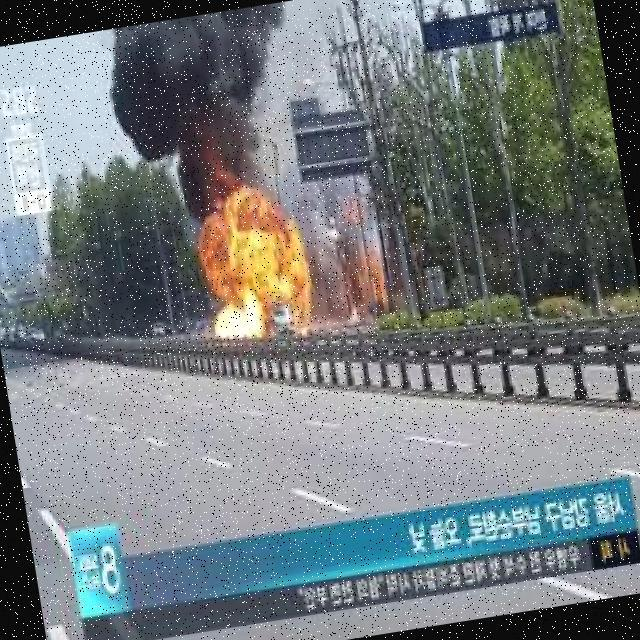Fire: (205, 211, 314, 343)
